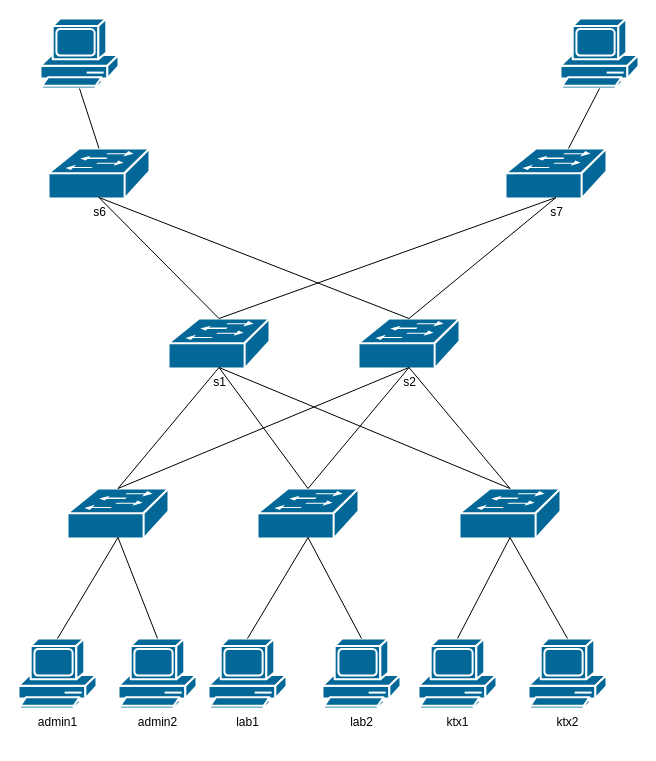
Image size: 656x761. Some labels were removed from this diagram. The centre of each missing label's shape, as x and y in pixels:
internet: the point at 79,53
s3: the point at 117,513
s4: the point at 307,513
s5: the point at 509,513
serverq7: the point at 599,53
